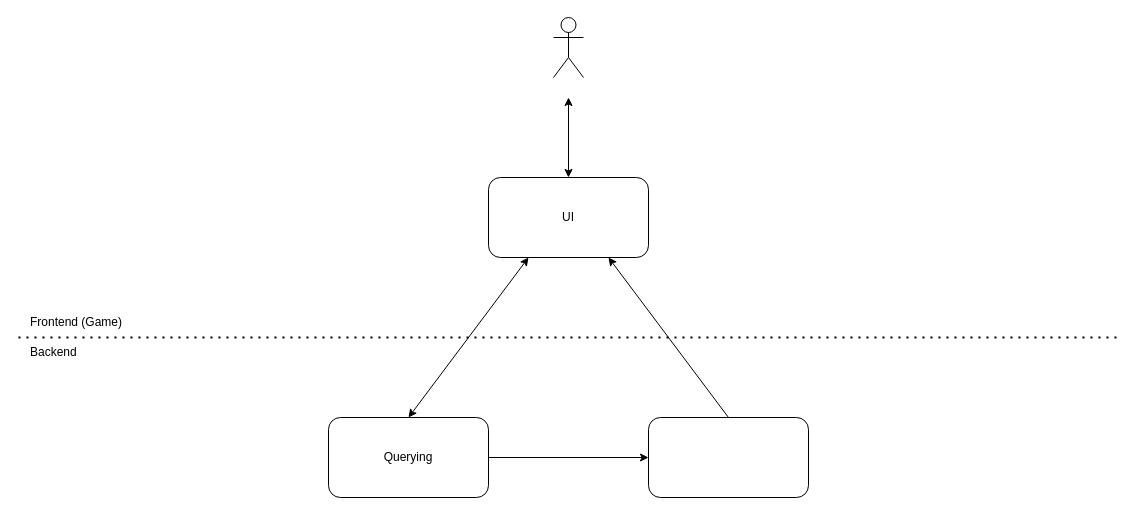
The diagram is 1137 pixels wide and 515 high, and some of its shapes have lost their labels. The box of each missing label's shape, as (x1, y1, x2, y2) in pixels:
Obscurity Computation: (648, 416, 808, 498)
Player: (552, 16, 584, 78)
